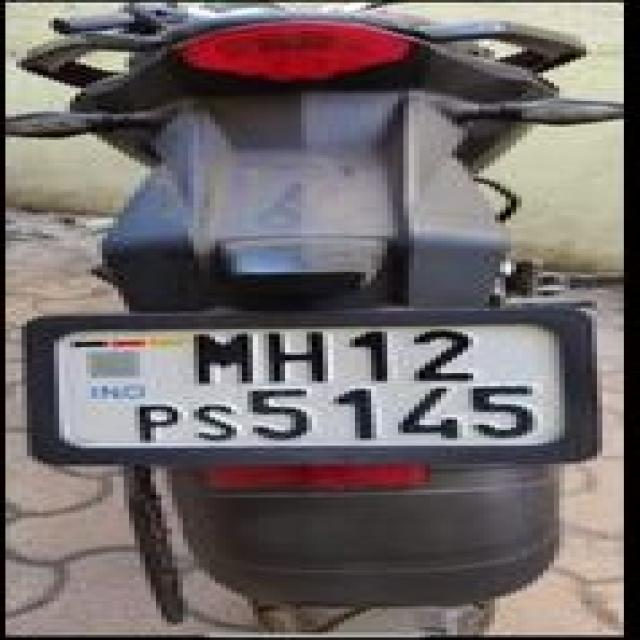license_plate: (21, 303, 597, 464)
